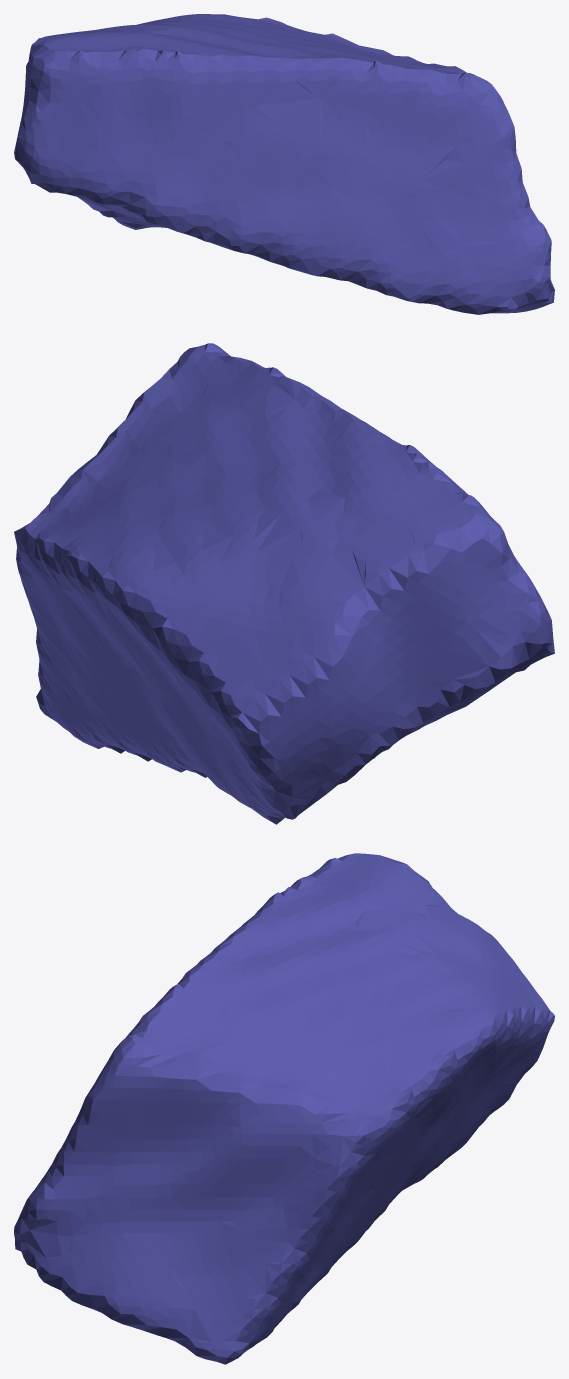
The model's file is Model_10033_LH__Area_6_of_cortex__dorsocaudal_part_(A6DC).obj.
The picture shows the model from 3 angles, top to bottom: view 1: azimuth 30°, elevation 25°; view 2: azimuth 150°, elevation 25°; view 3: azimuth 270°, elevation 25°; orthographic projection. The views are drawn at different scales.
Bounding box in the file's own units: 3.78 × 2.47 × 3.79.
